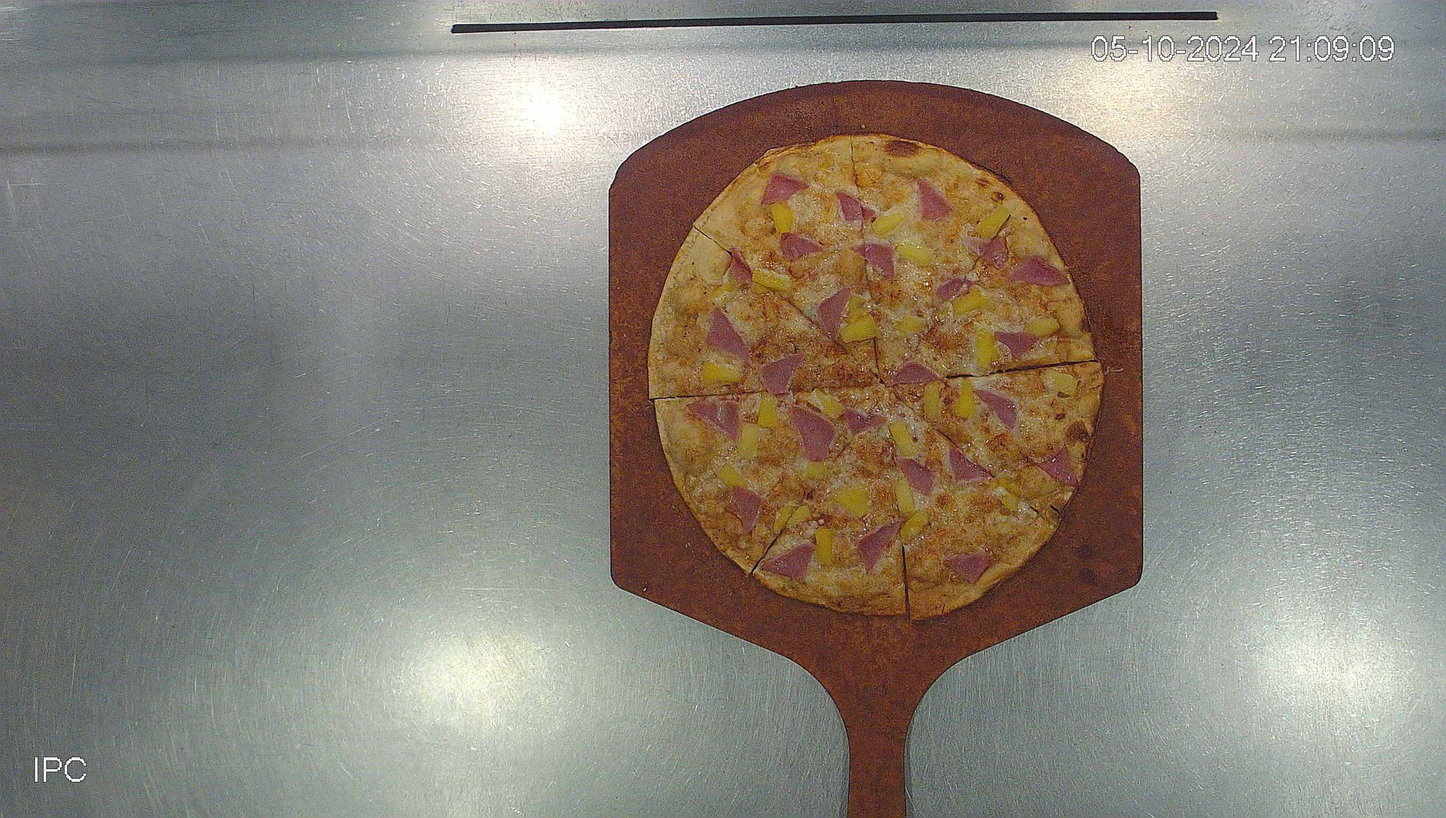manager_choice: (647, 132, 1105, 623)
